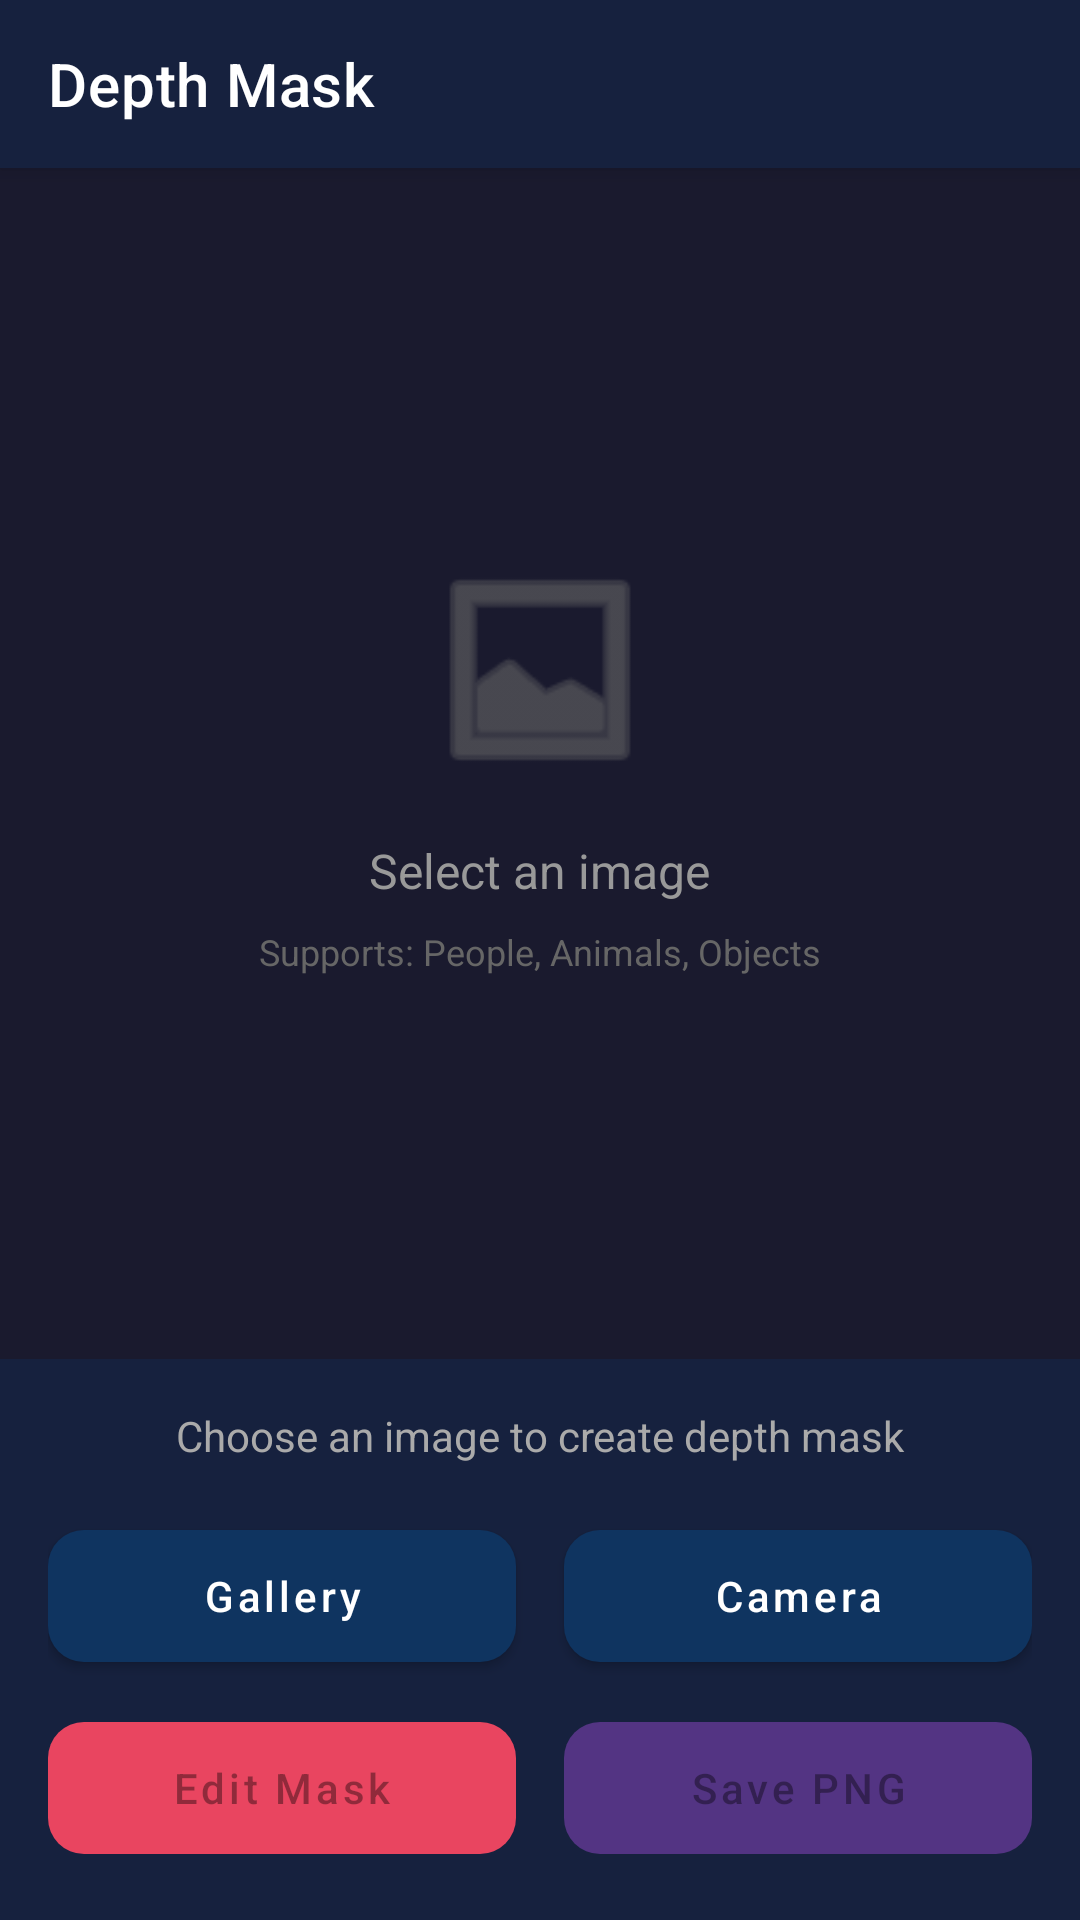

Named icons in this screenshot (1080×1920) and their centers, point (x, y):
gallery: point (540, 670)
